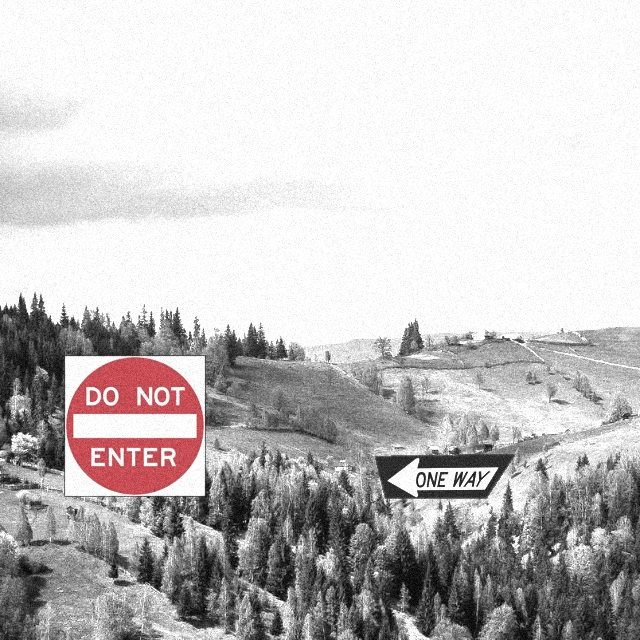DO_NOT_ENTER: (64, 355, 206, 497)
ONE_WAY_ left: (374, 453, 516, 499)
